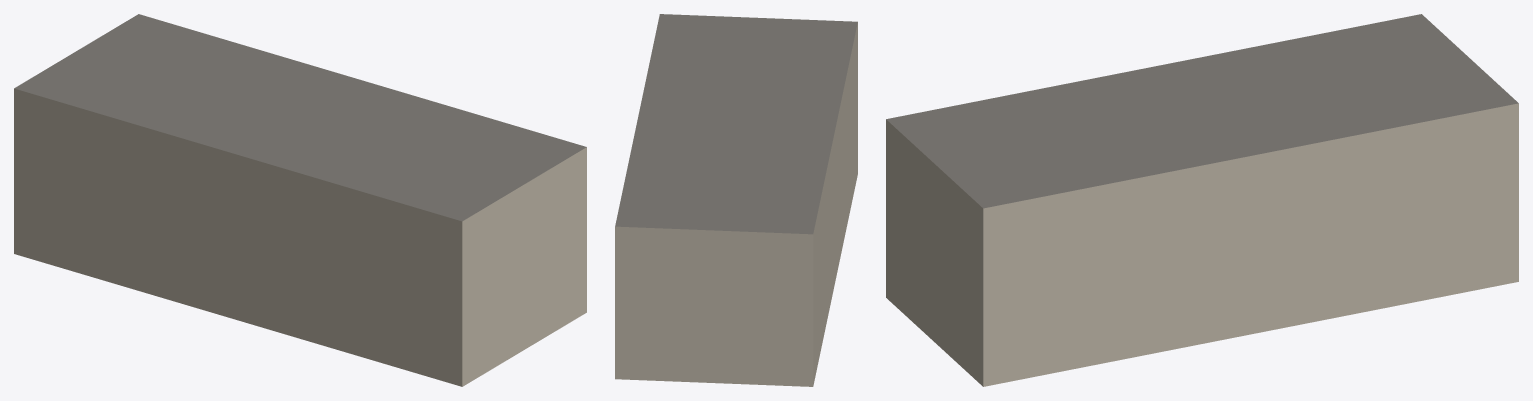
The picture shows the model from 3 angles, left to right: view 1: azimuth 30°, elevation 25°; view 2: azimuth 150°, elevation 25°; view 3: azimuth 270°, elevation 25°; orthographic projection. The views are drawn at different scales.
Visible parts, largest first — view 1: HP-w1287260665; view 2: HP-w1287260665; view 3: HP-w1287260665.
Boxes of the visible parts, x1,y1,x2,y2 form: HP-w1287260665: [14, 14, 586, 386]; HP-w1287260665: [615, 14, 857, 386]; HP-w1287260665: [886, 14, 1518, 386].
Size of the model in its own units: 42.07 by 18 by 57.85.
